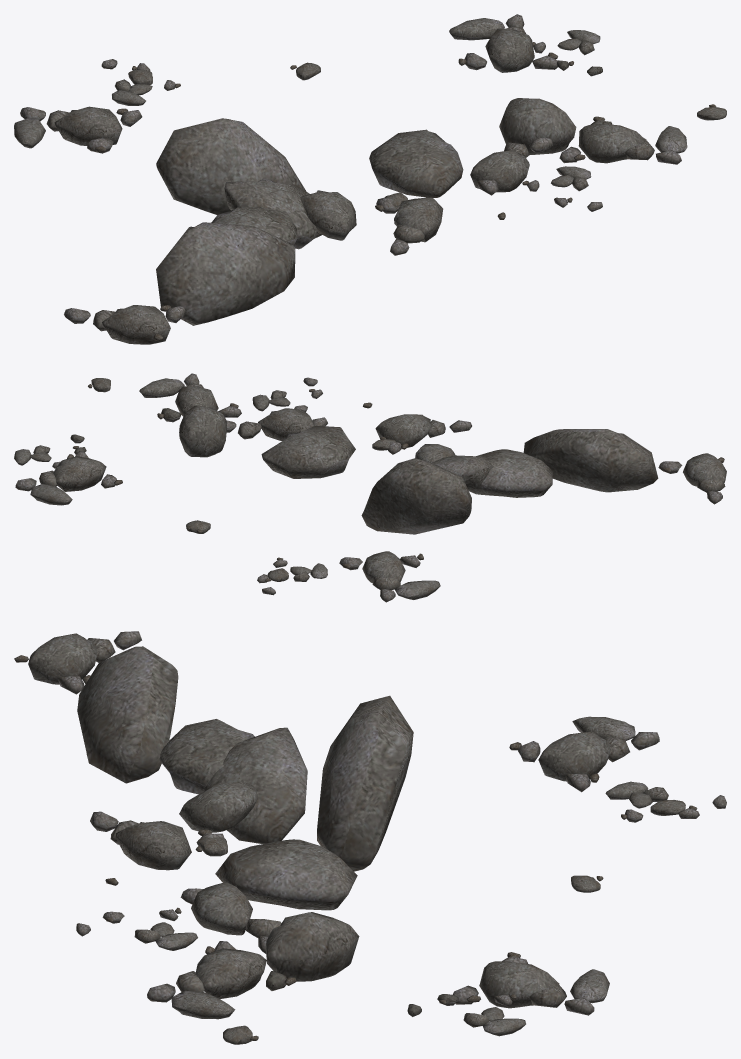
Rendered from Stone.fbx.
The picture shows the model from 3 angles, top to bottom: view 1: azimuth 30°, elevation 25°; view 2: azimuth 150°, elevation 25°; view 3: azimuth 270°, elevation 25°; orthographic projection. The views are drawn at different scales.
Parts seen in each view (by area): view 1: SM_WAL_Tee_A_BackExit_Stons01.mo; view 2: SM_WAL_Tee_A_BackExit_Stons01.mo; view 3: SM_WAL_Tee_A_BackExit_Stons01.mo.
Boxes of the visible parts, x1,y1,x2,y2 form: SM_WAL_Tee_A_BackExit_Stons01.mo: [14, 14, 726, 344]; SM_WAL_Tee_A_BackExit_Stons01.mo: [14, 373, 726, 602]; SM_WAL_Tee_A_BackExit_Stons01.mo: [14, 631, 726, 1044].
Bounding box in the file's own units: 390 × 57.01 × 286.
